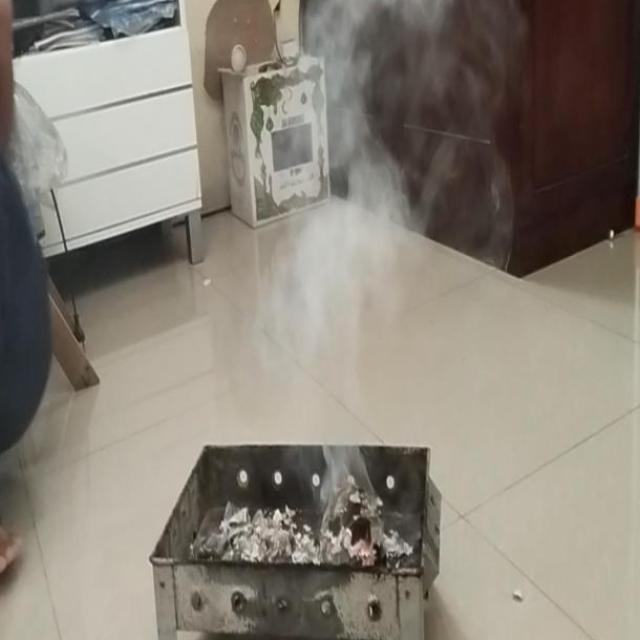fire: (249, 165, 424, 504), (301, 0, 476, 162)
